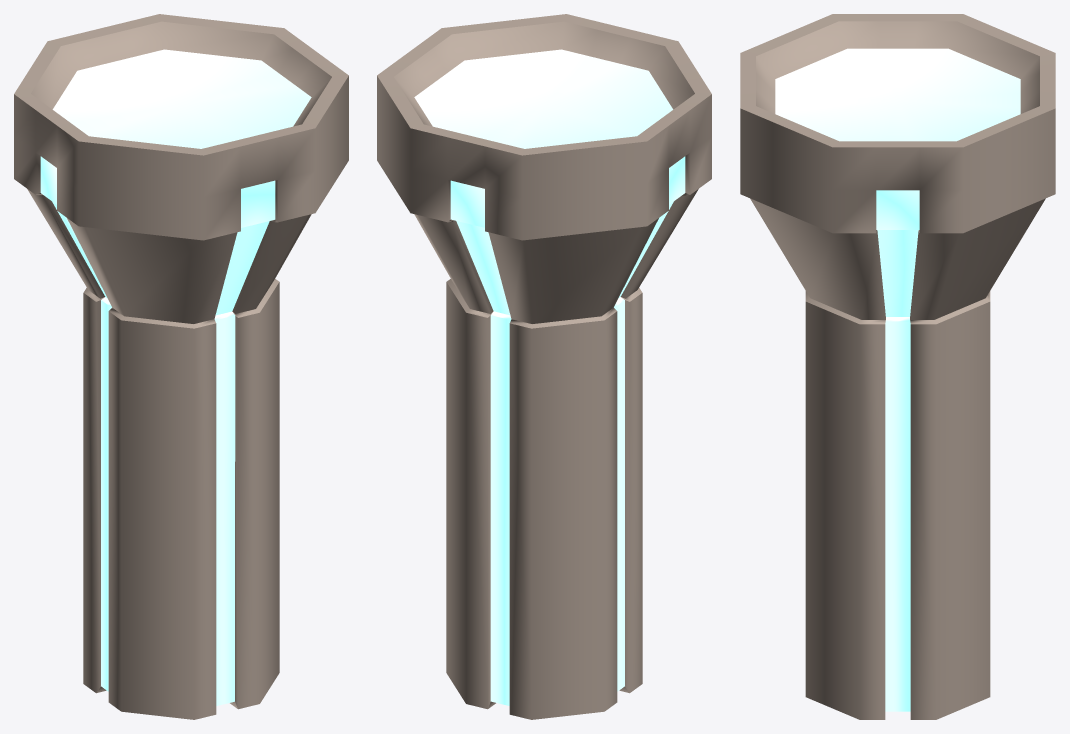
File: Flashlight.fbx
3 views of the same model, side by side, from view 1: azimuth 30°, elevation 25°; view 2: azimuth 150°, elevation 25°; view 3: azimuth 270°, elevation 25° (orthographic).
Visible parts, largest first — view 1: FlashLight; view 2: FlashLight; view 3: FlashLight.
Part boxes in pixels (bbox=[...]): FlashLight: bbox=[14, 14, 348, 719]; FlashLight: bbox=[377, 14, 711, 719]; FlashLight: bbox=[740, 14, 1055, 719].
Size of the model in its own units: 0.0671 by 0.1409 by 0.0671.
